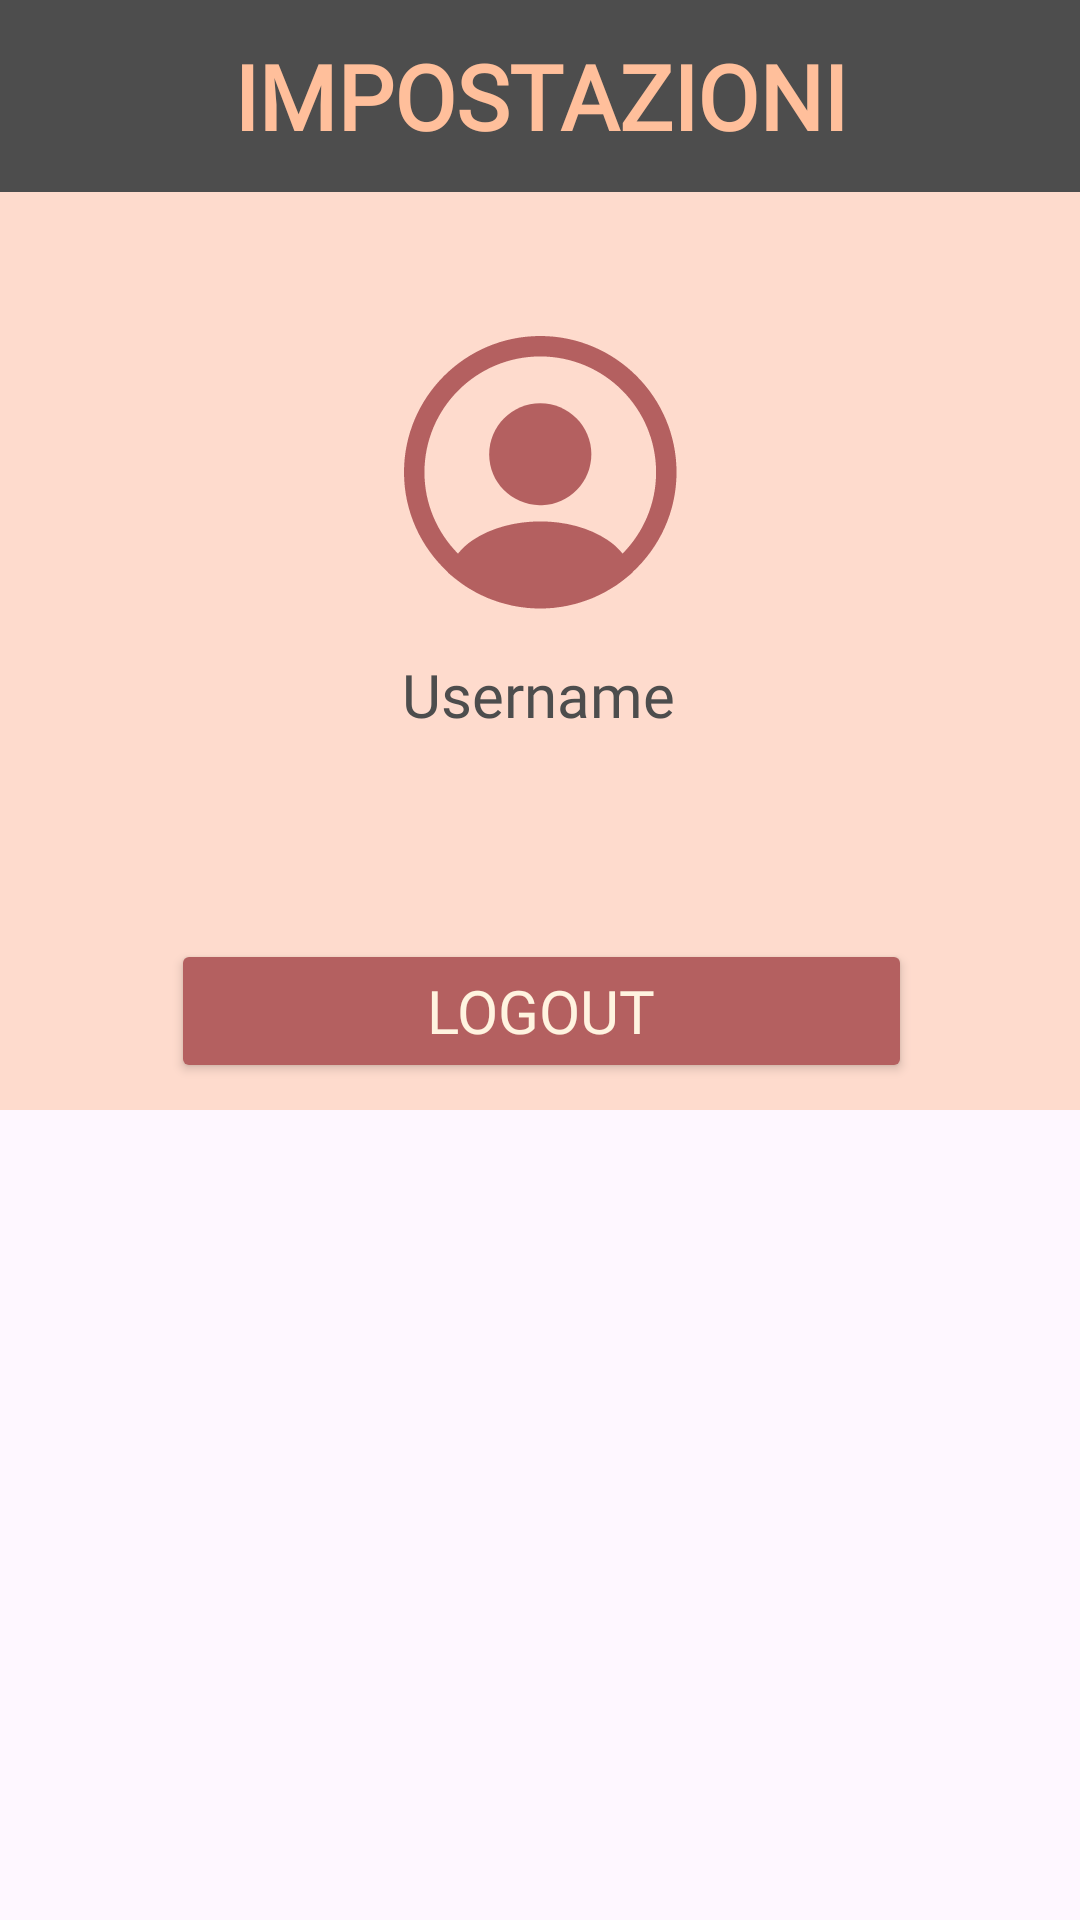

Screen size 1080x1920. Icon name, then its box in pixels as (x1, y1, x2, y2):
profile circle: (404, 336, 677, 609)
